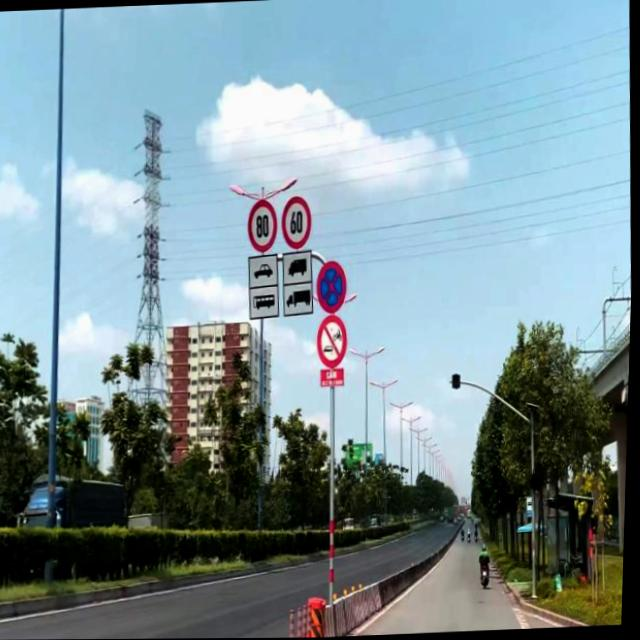Cam dung xe va do xe: (316, 259, 350, 316)
Toc do toi da cho phep: (247, 199, 279, 251), (281, 197, 313, 247)
